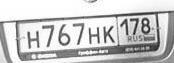license-plateSW: (18, 13, 158, 53)
